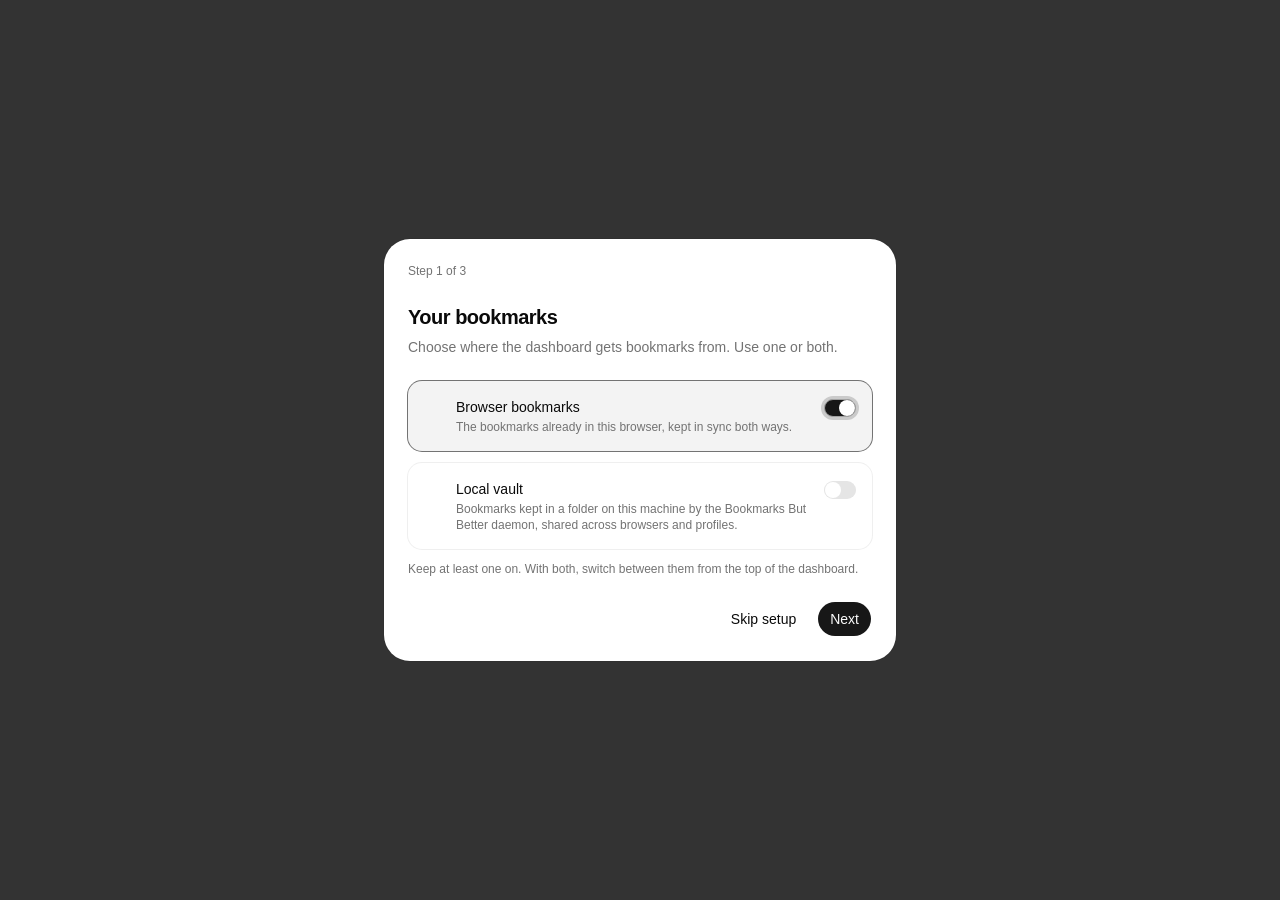
Test: OnboardingWizard source step › adds the vault step only when adding a vault is turned on
The image size is (1280, 900).
Expected: the text "Connect your vault" is not shown
Click the switch named "Local vault" in the row of "Local vault": [840, 490] box [824,481,856,499]
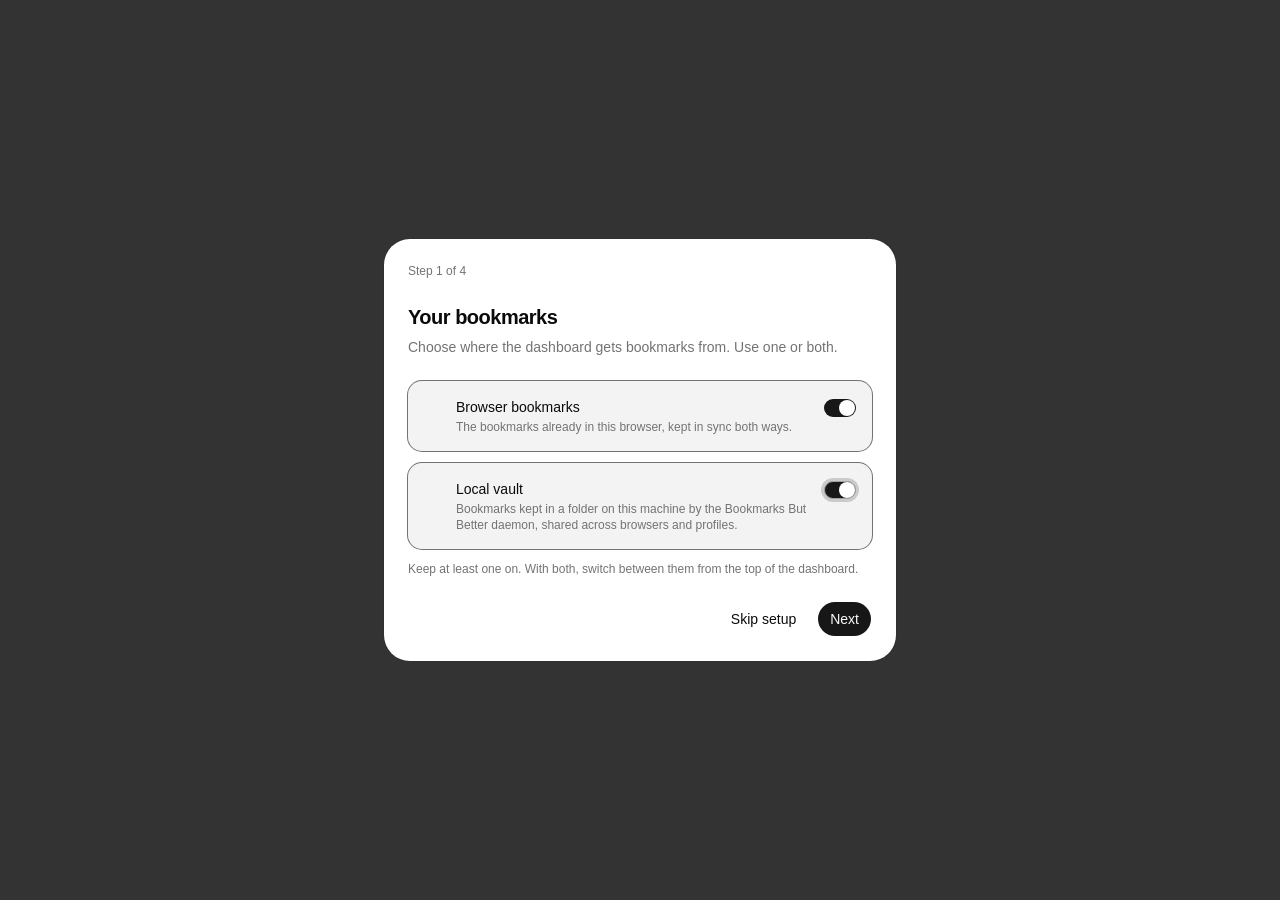
Click the button "Next": [845, 619] box [817,601,872,637]
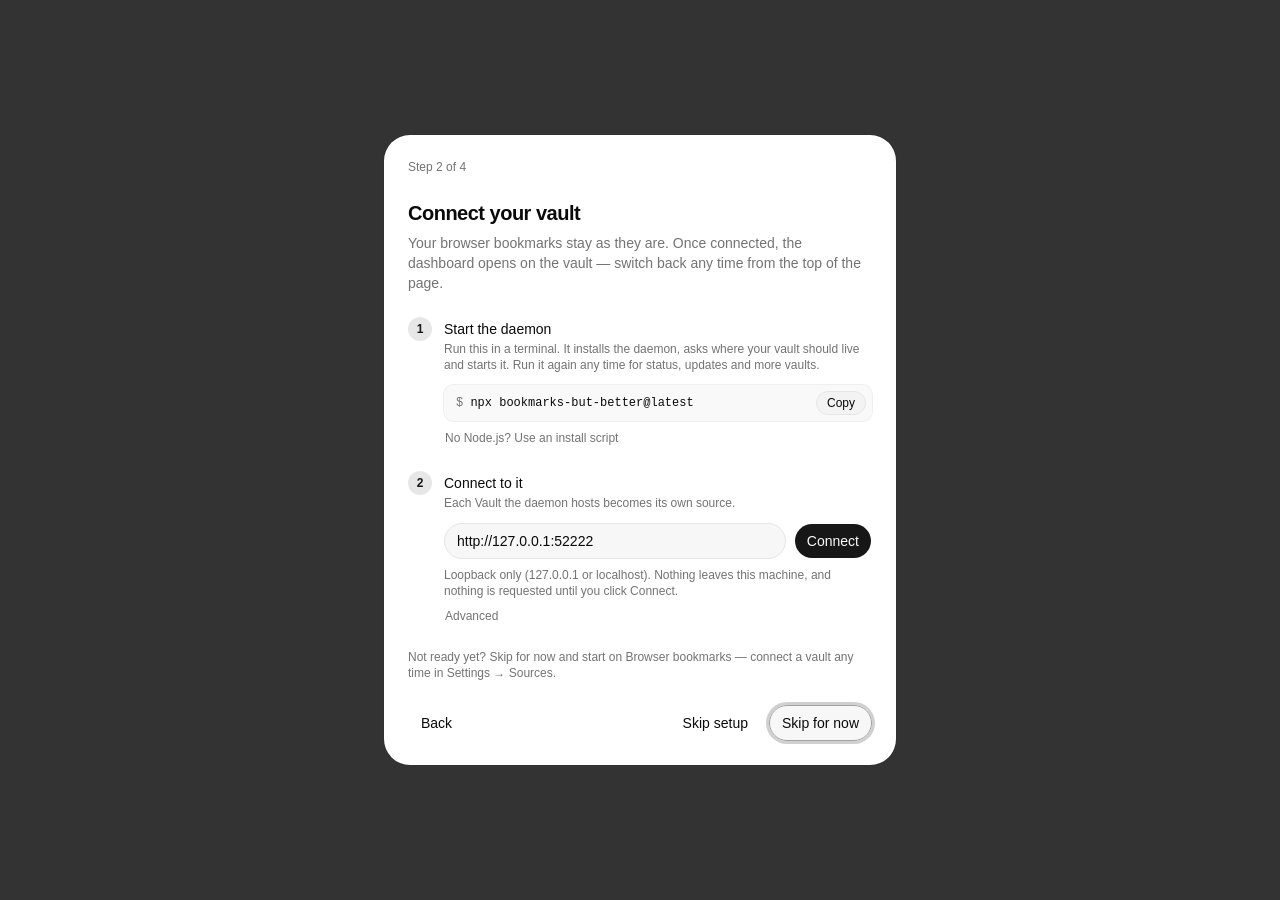
Now the heading "Connect your vault" is shown, box [408,202,580,224]
